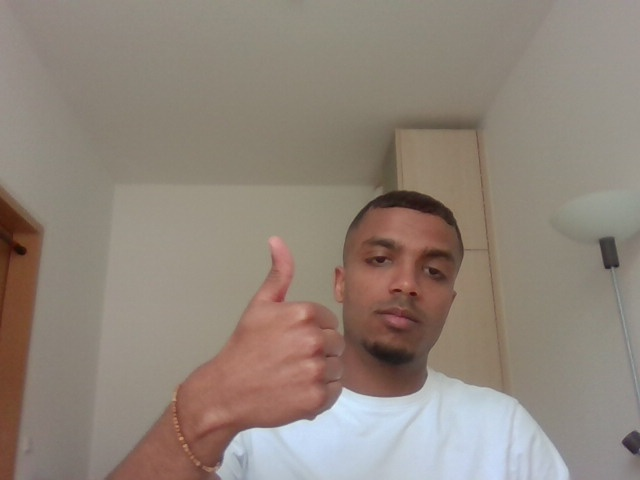yes: (191, 218, 350, 436)
